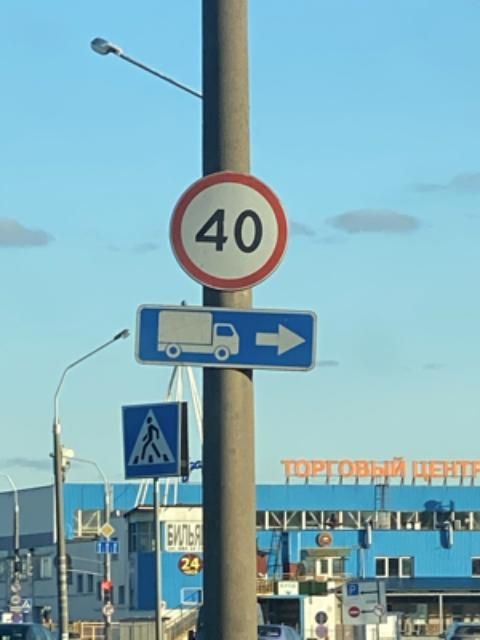crosswalk-sign: (120, 400, 188, 481)
